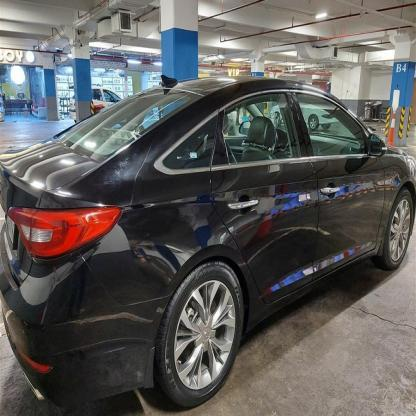Car: (0, 70, 416, 408)
